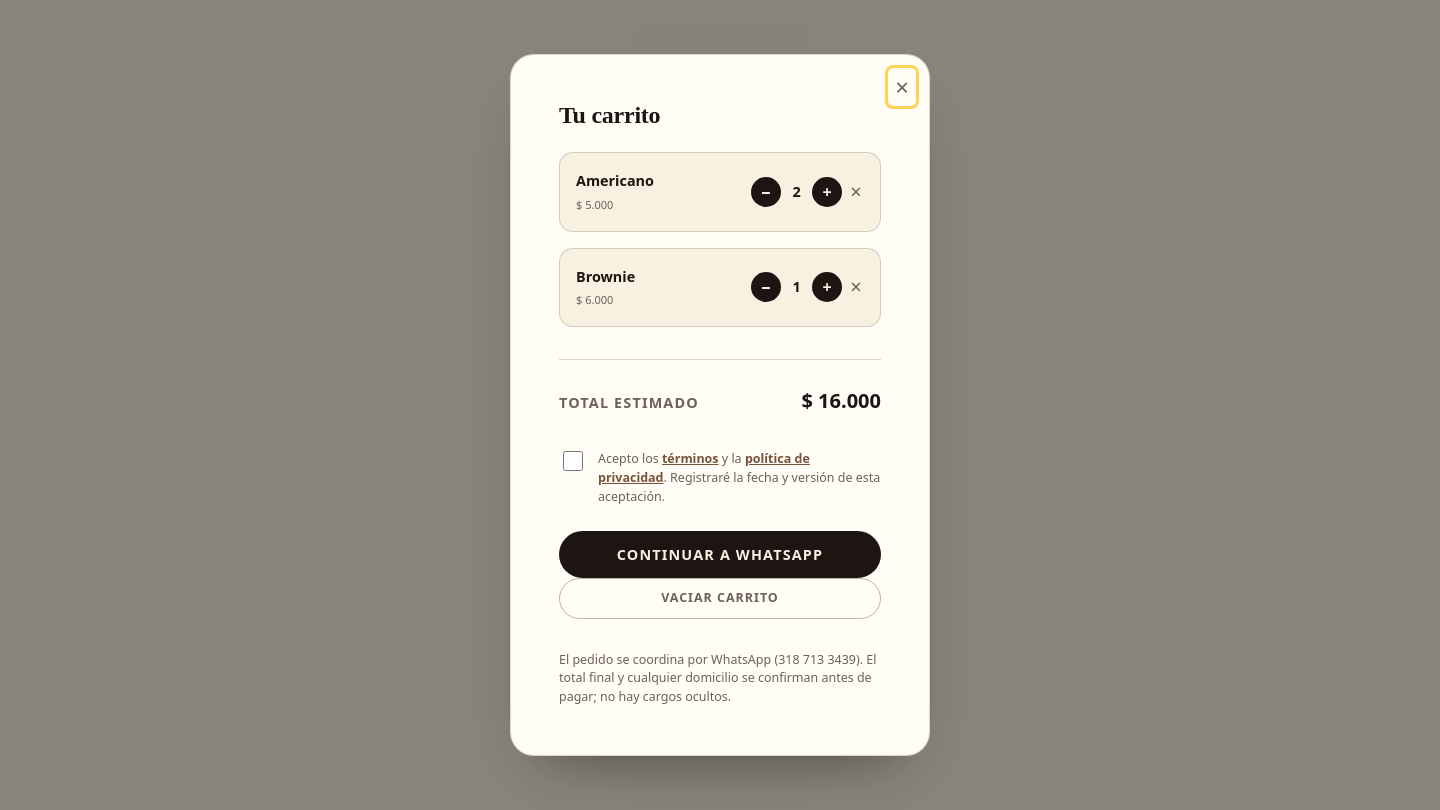
Test case: CartDrawer › genera el deep-link de WhatsApp con los items y limpia el carrito
Click the checkbox labelled "Acepto los términos" at (573, 461), box top-left (563, 451), bottom-right (583, 471)
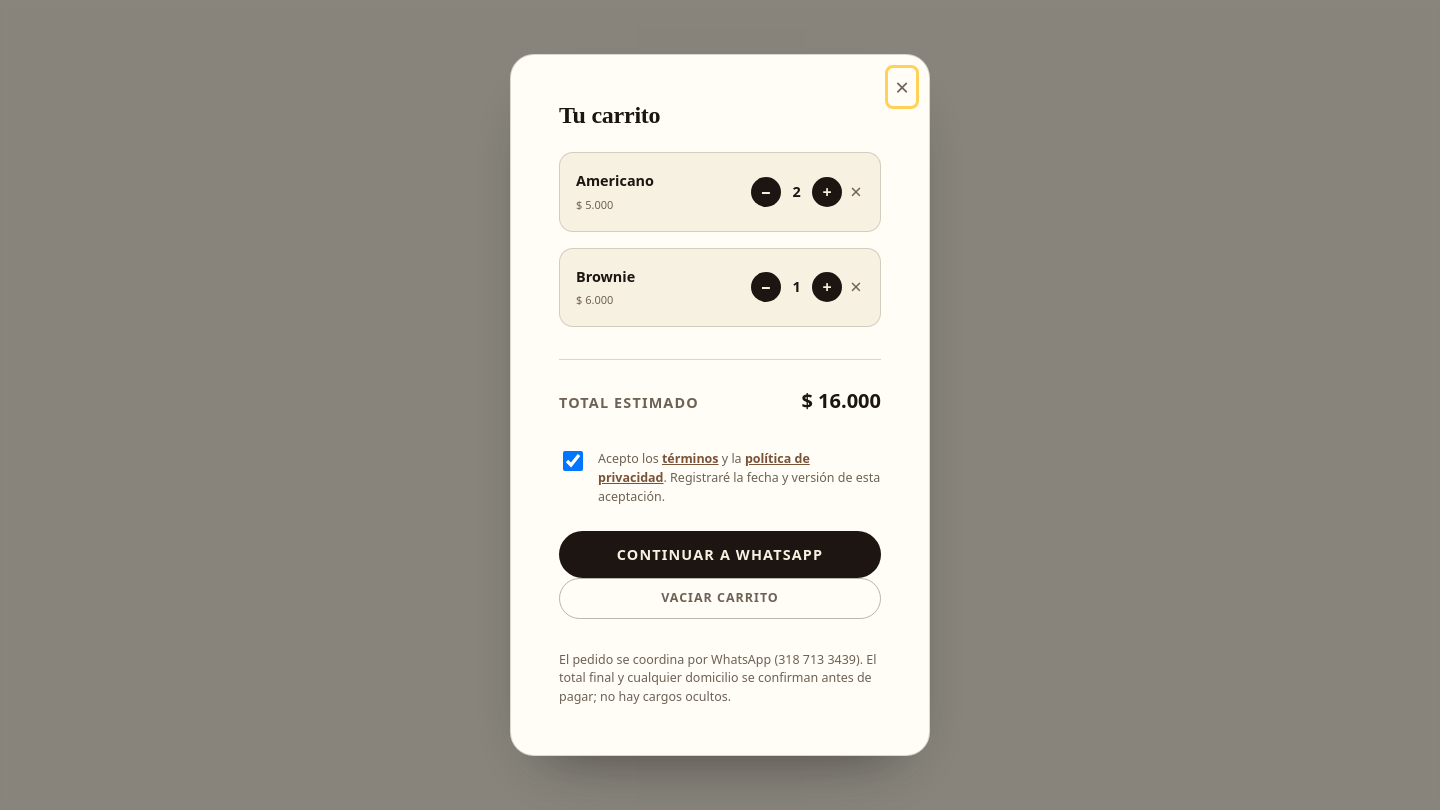
Click the button "Continuar a WhatsApp" at (720, 554), box top-left (559, 531), bottom-right (881, 578)
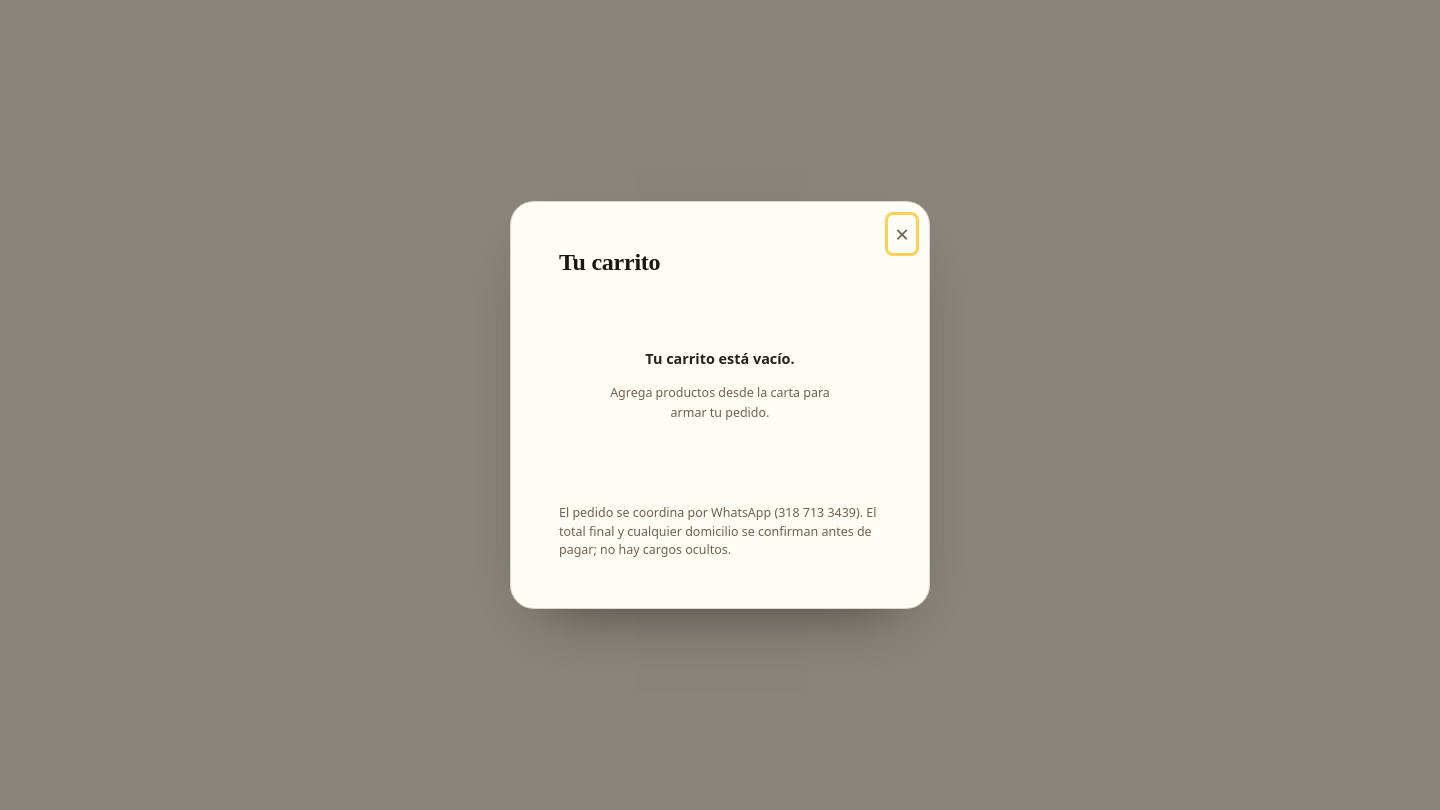
Expected: the text "Tu carrito está vacío." is shown, top-left (645, 347), bottom-right (795, 371)
